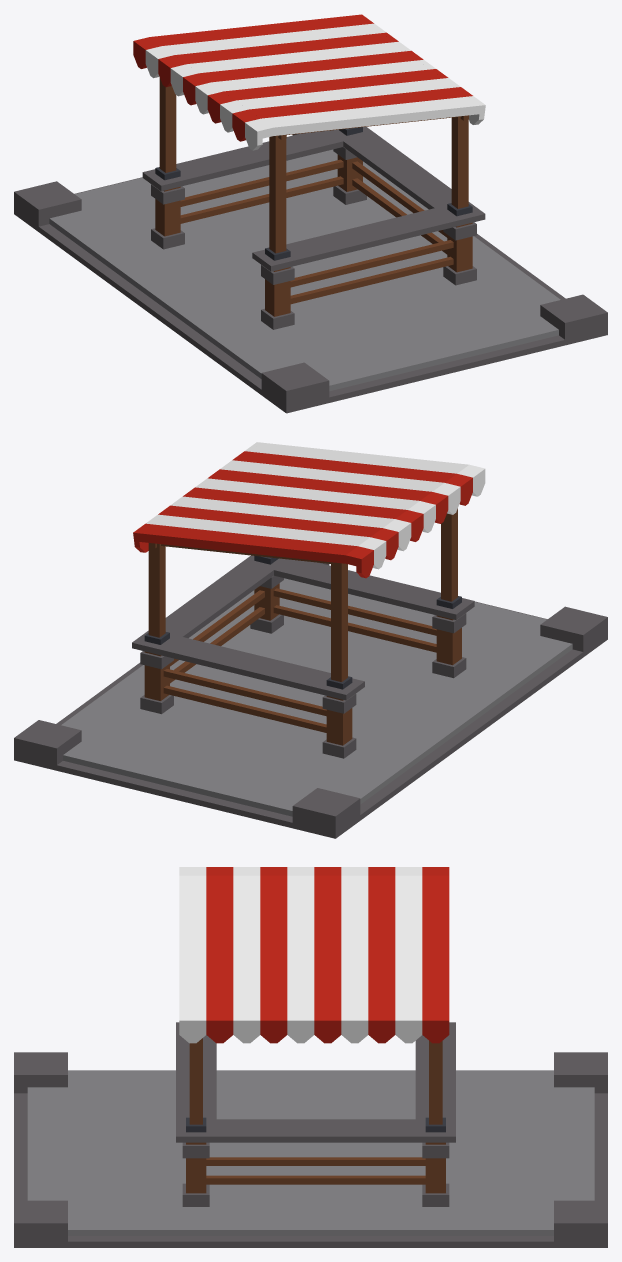
Rendered from Donate.fbx.
3 views of the same model, one above another, from view 1: azimuth 30°, elevation 25°; view 2: azimuth 150°, elevation 25°; view 3: azimuth 270°, elevation 25° (orthographic). The views are drawn at different scales.
Parts seen in each view (by area): view 1: hel; view 2: hel; view 3: hel.
Part boxes in pixels (x1=…): hel: x1=14, y1=14, x2=607, y2=413; hel: x1=14, y1=442, x2=607, y2=838; hel: x1=14, y1=867, x2=607, y2=1247.
Bounding box in the file's own units: 1500 × 958 × 2200.
